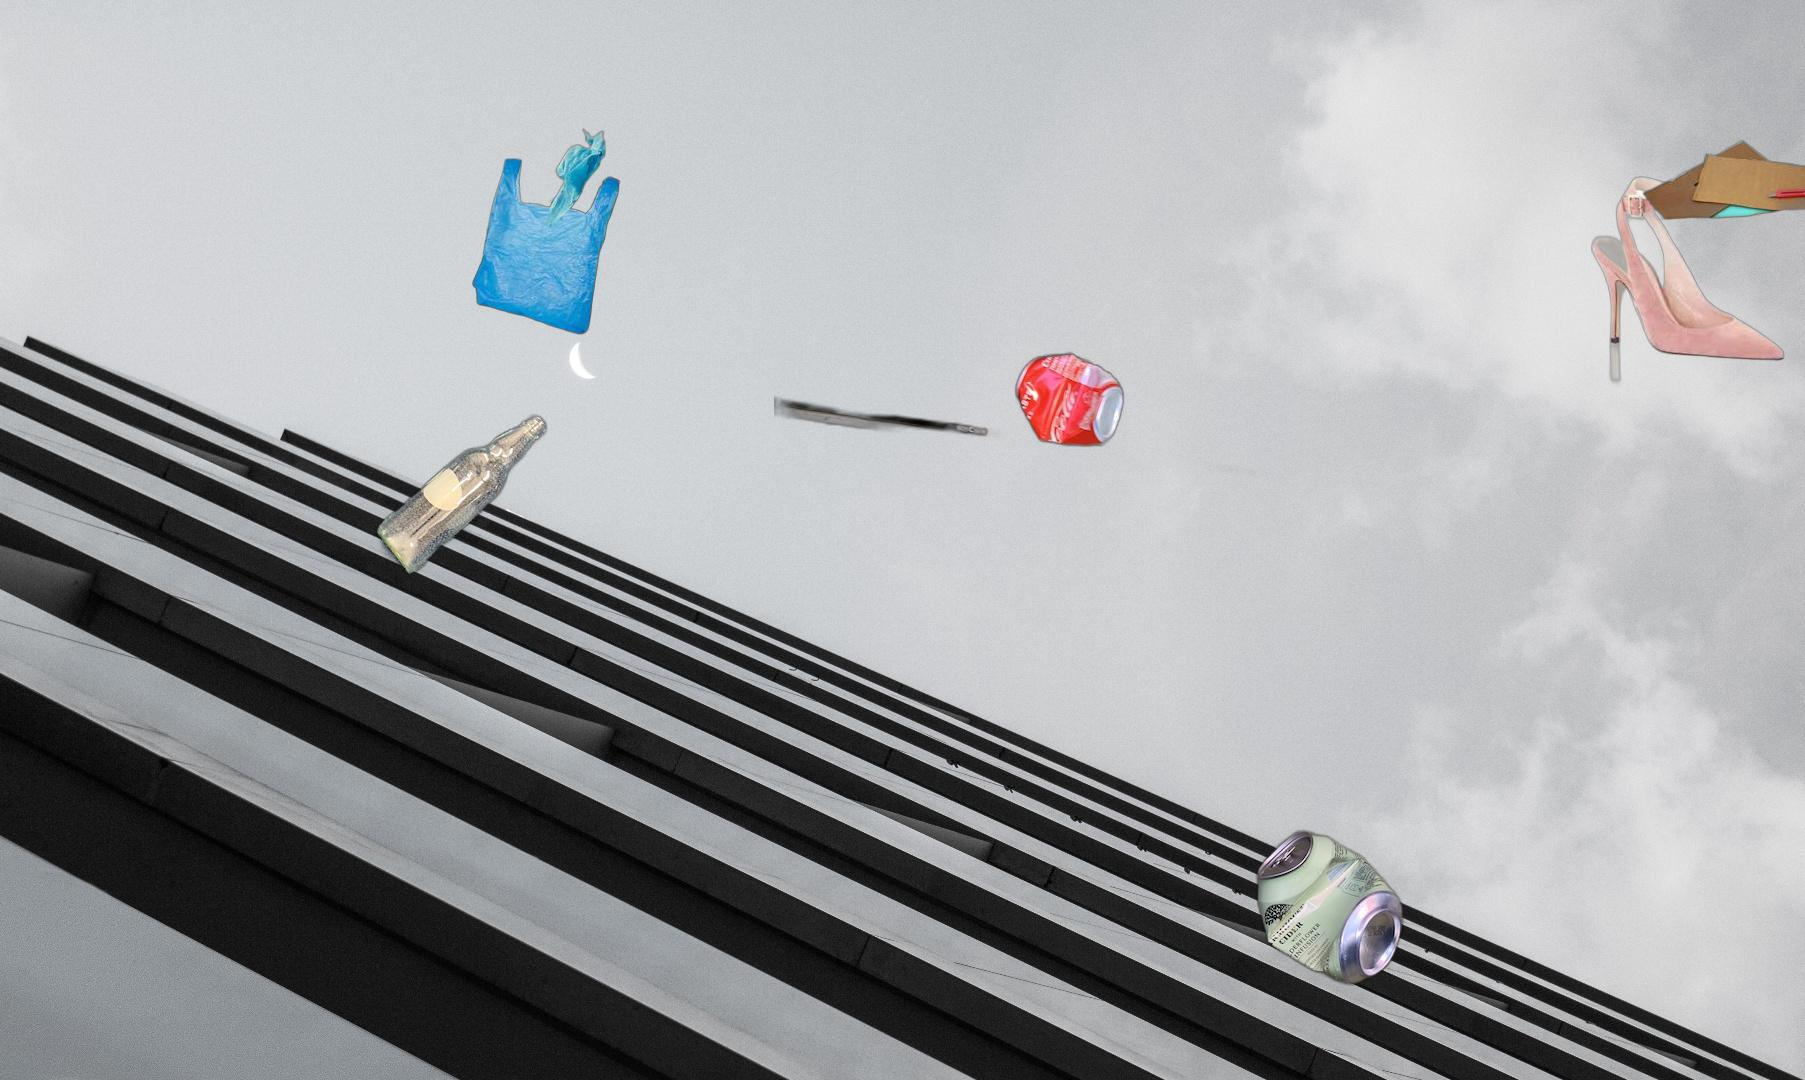glass: (372, 410, 550, 581)
metal-cans: (1253, 372, 1493, 990), (774, 271, 1286, 523)
plastic-bag: (471, 127, 621, 336)
shoes: (1592, 174, 1786, 390)
trashbox-cardboard: (1640, 130, 1805, 222)
